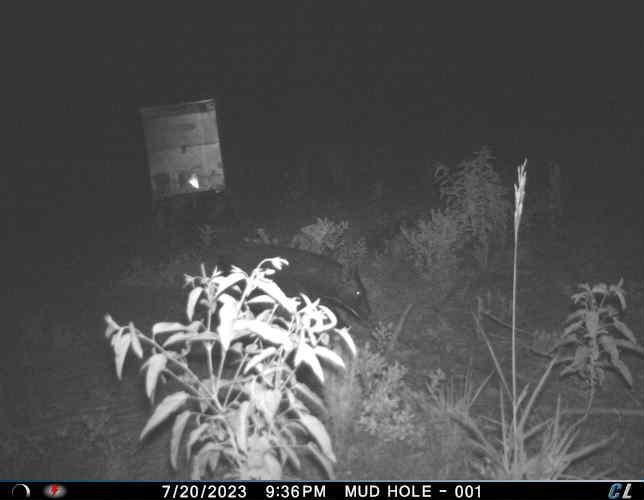Hog: (242, 238, 375, 322)
